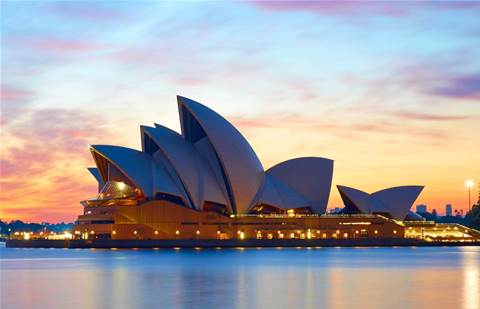opera house: (65, 84, 443, 243)
